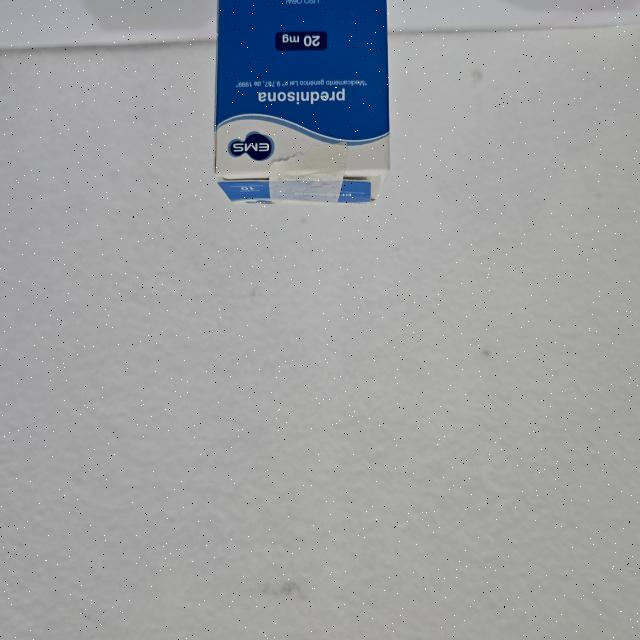prednisona: (210, 0, 394, 210)
